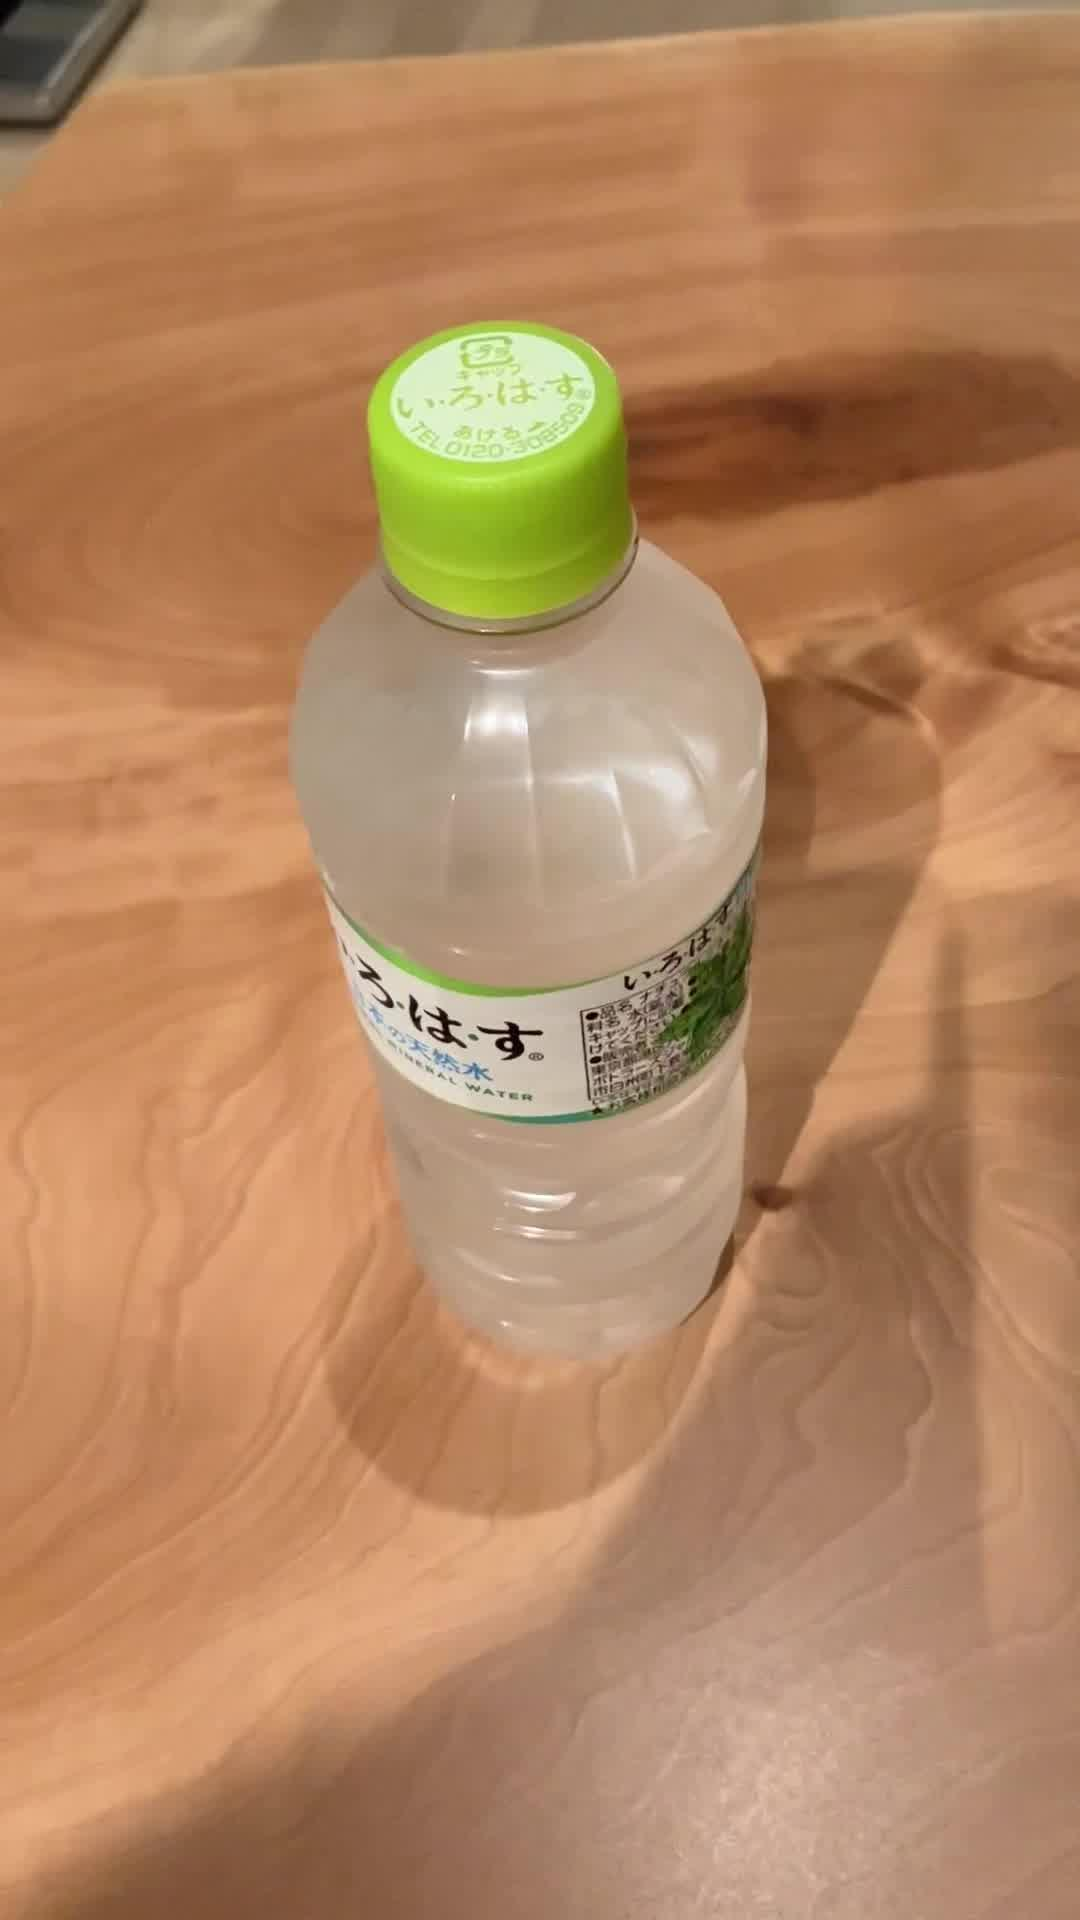BIODEGRADABLE: (281, 312, 779, 1362)
